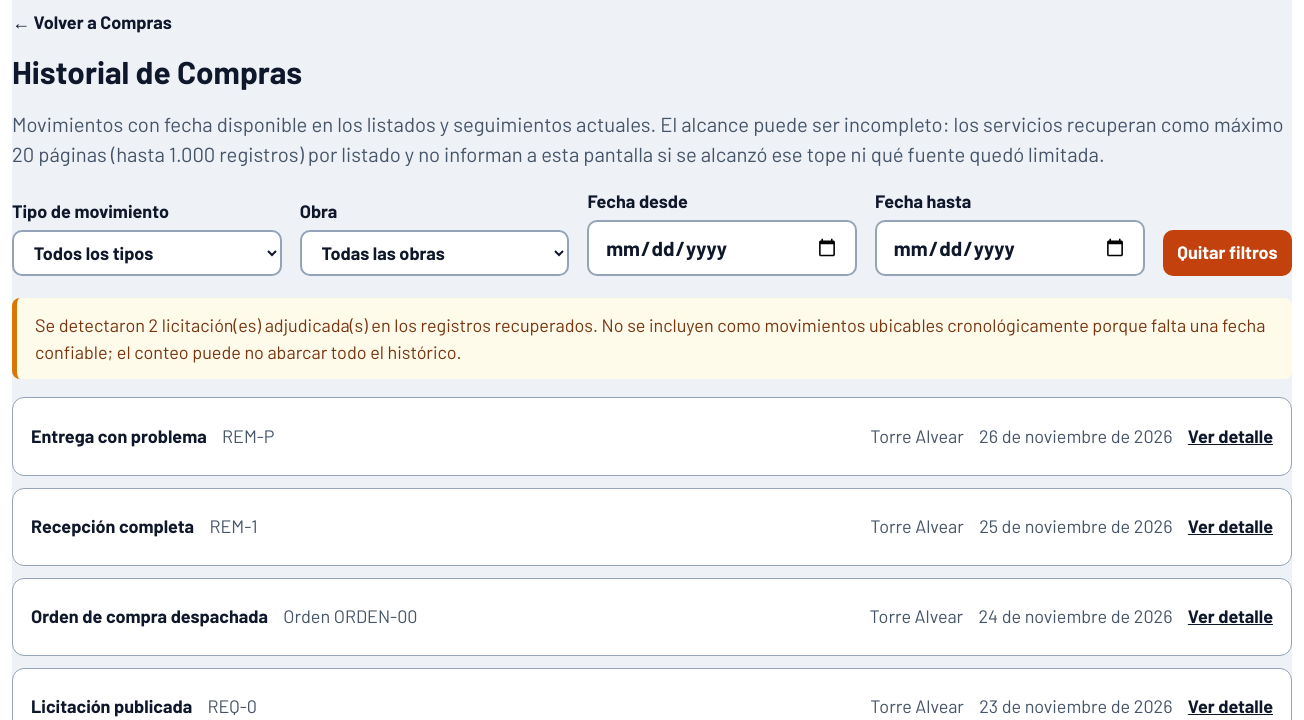
Test: HistorialComprasPage (#221) › muestra el conteo de adjudicaciones solo al ver todos los tipos o licitaciones
Expected: the text "Se detectaron 2 licitación(es) adjudicada(s)" is shown, left=12, top=298, right=1292, bottom=379
Step 1. Select "Requisiciones" in the dropdown labelled "Tipo de movimiento" → (147, 253), box left=12, top=230, right=282, bottom=276
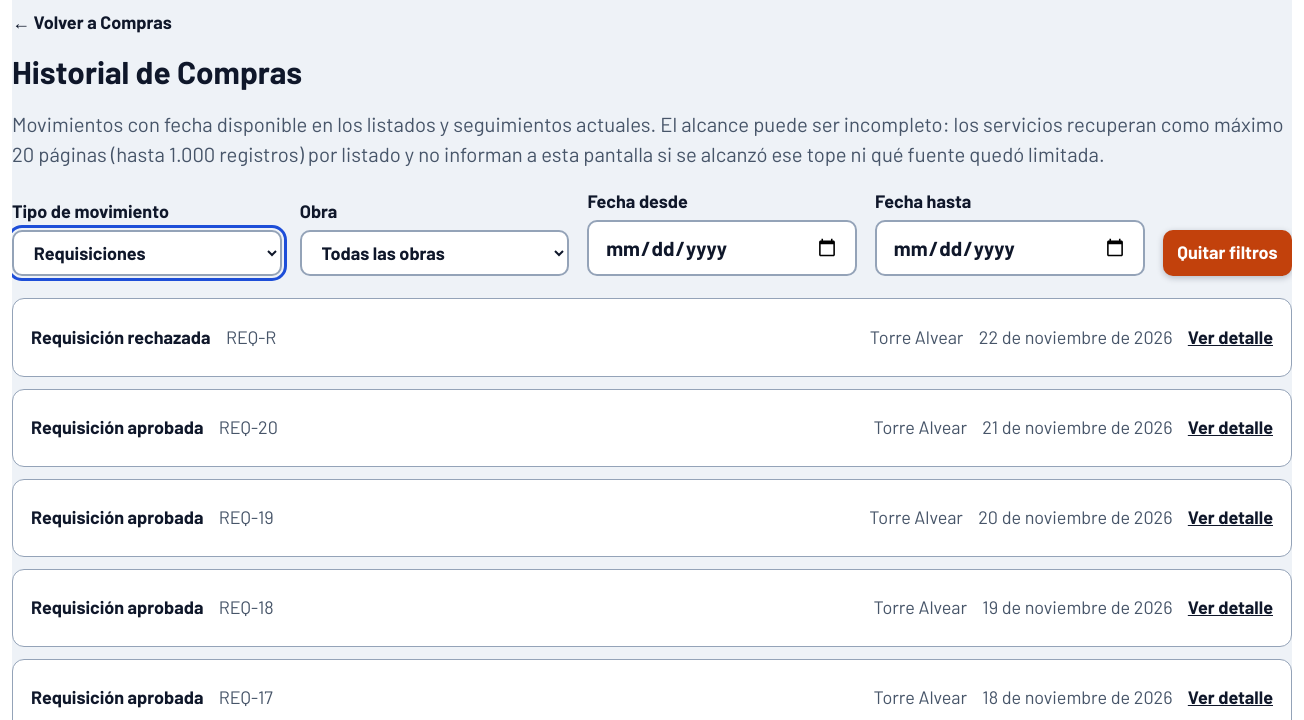
Step 2. Select "Licitaciones" in the dropdown labelled "Tipo de movimiento" → (147, 253), box left=12, top=230, right=282, bottom=276
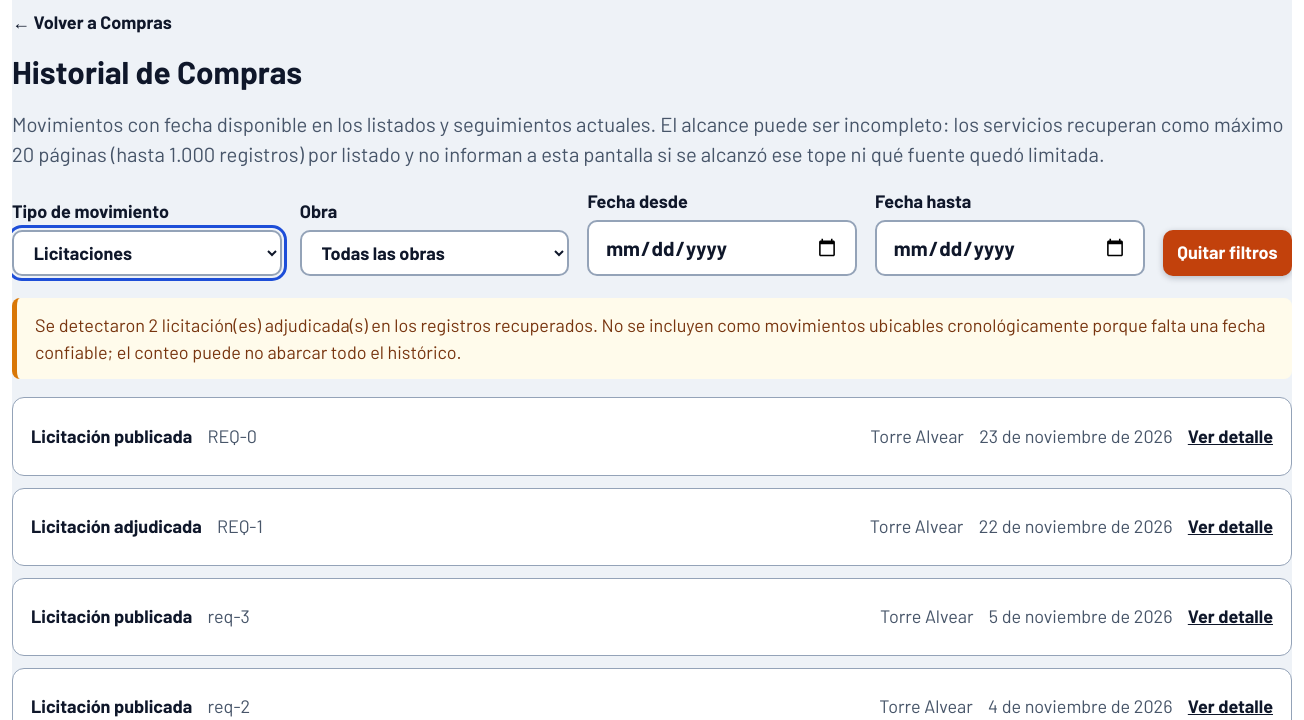
Result: the text "Se detectaron 2 licitación(es) adjudicada(s)" is shown at left=12, top=298, right=1292, bottom=379
